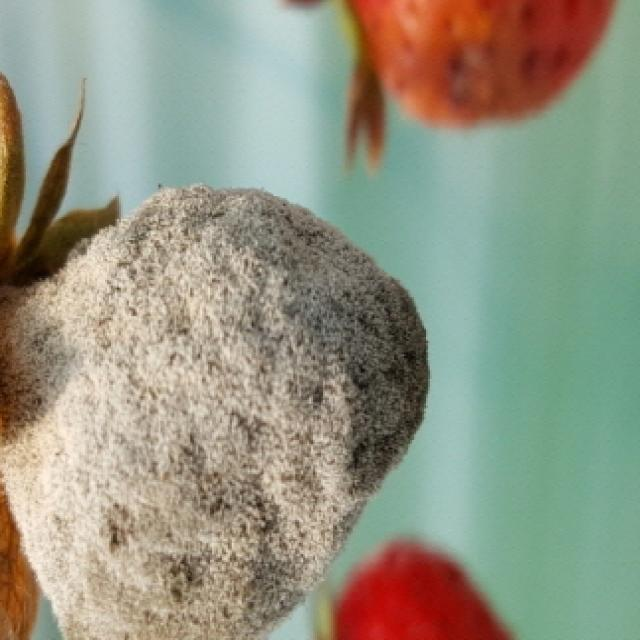Gray Mold: (0, 74, 432, 640)
